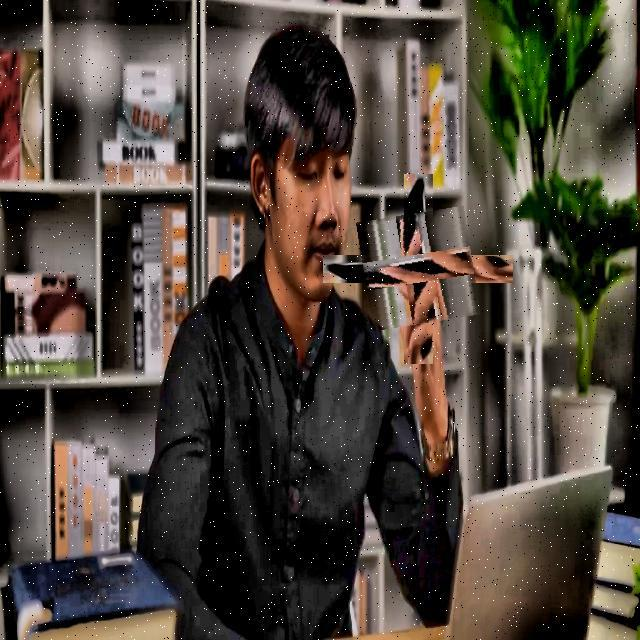Phone: (360, 210, 477, 328)
